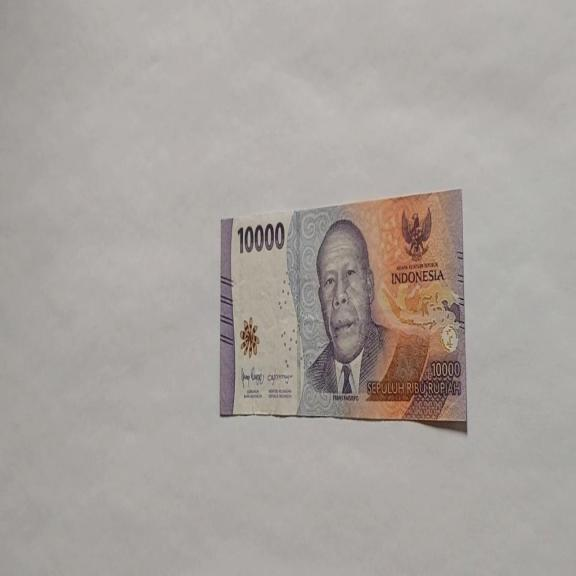Kertas: (219, 187, 467, 430), (236, 220, 286, 254)
